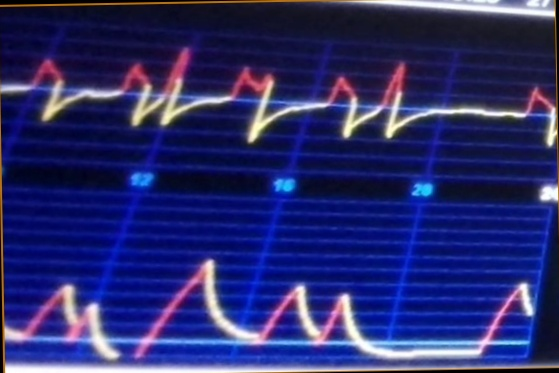Double_Triggering Flow: (1, 43, 559, 159)
Double_Triggering Volume: (7, 243, 532, 357)
